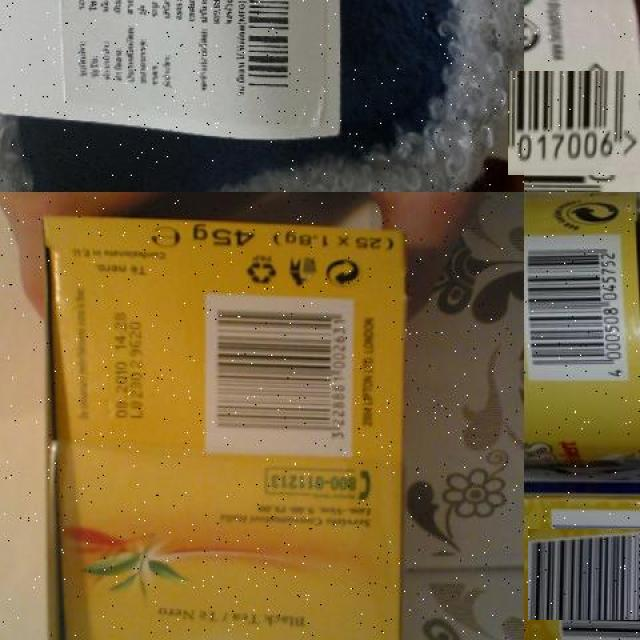Barcode: (203, 295, 359, 453), (524, 233, 627, 380), (516, 63, 637, 184), (538, 519, 640, 631), (232, 0, 316, 100)
